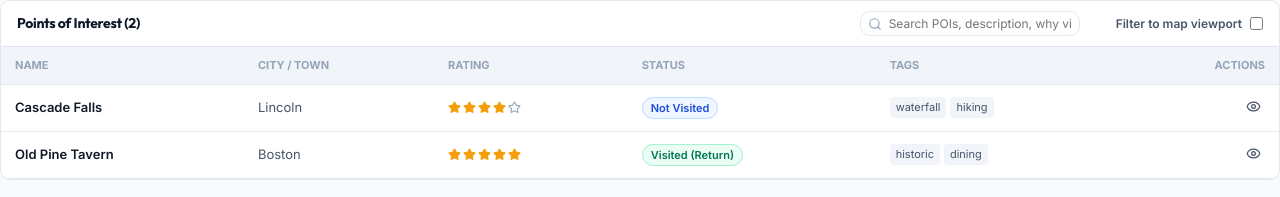
Test: POITable Search & Column Toggle (T-029 / REQ-CTX-025, REQ-CTX-037) › filters table results when search term matches exclusively in reason_to_visit
# "clam chowder" is only in Old Pine Tavern reason_to_visit
Type "clam chowder" into the field with test id "poi-table-search-input".
click(970, 24); type("clam chowder")  # box x1=860 y1=11 x2=1080 y2=36
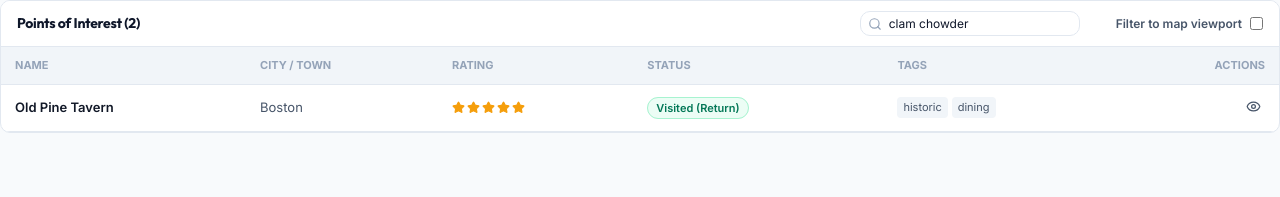
Check: the text "Old Pine Tavern" is shown, box x1=15 y1=99 x2=114 y2=115
Check: the text "Cascade Falls" is gone
